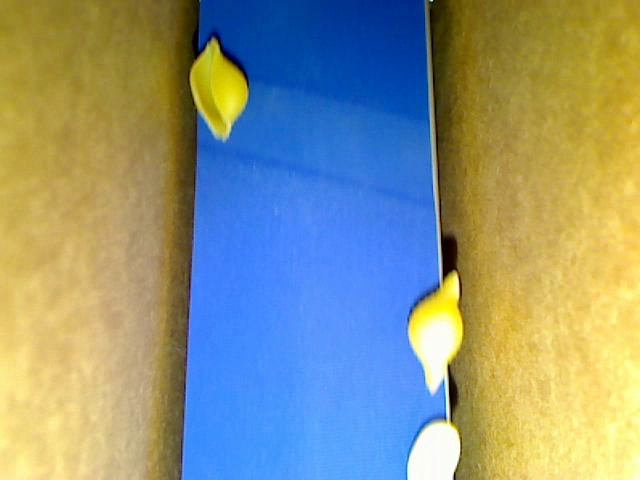shell: (407, 272, 462, 393), (190, 38, 252, 143)
